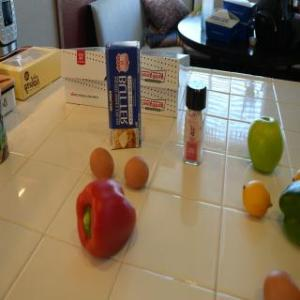bell_pepper: (78, 187, 142, 259), (278, 182, 300, 244)
egg: (260, 267, 300, 299), (122, 155, 148, 191), (87, 146, 112, 178)
